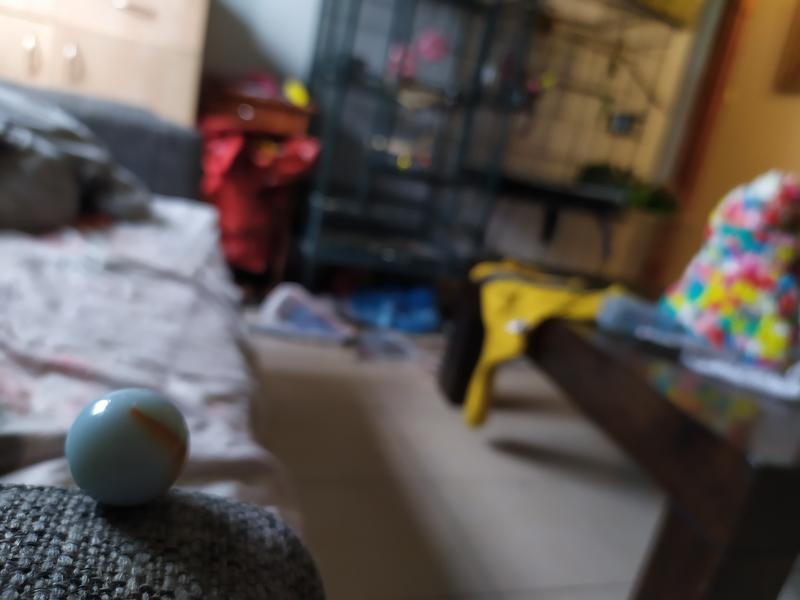Warning: (61, 384, 194, 510)
